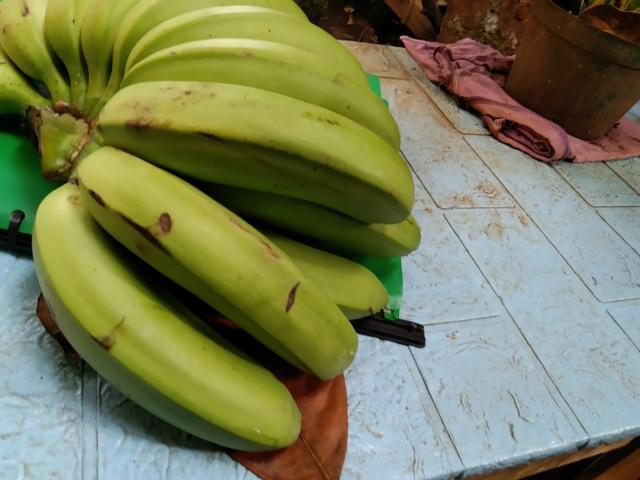freshunripe: (26, 188, 303, 453), (109, 28, 400, 146)
unripe: (66, 140, 356, 381), (90, 81, 415, 234)
